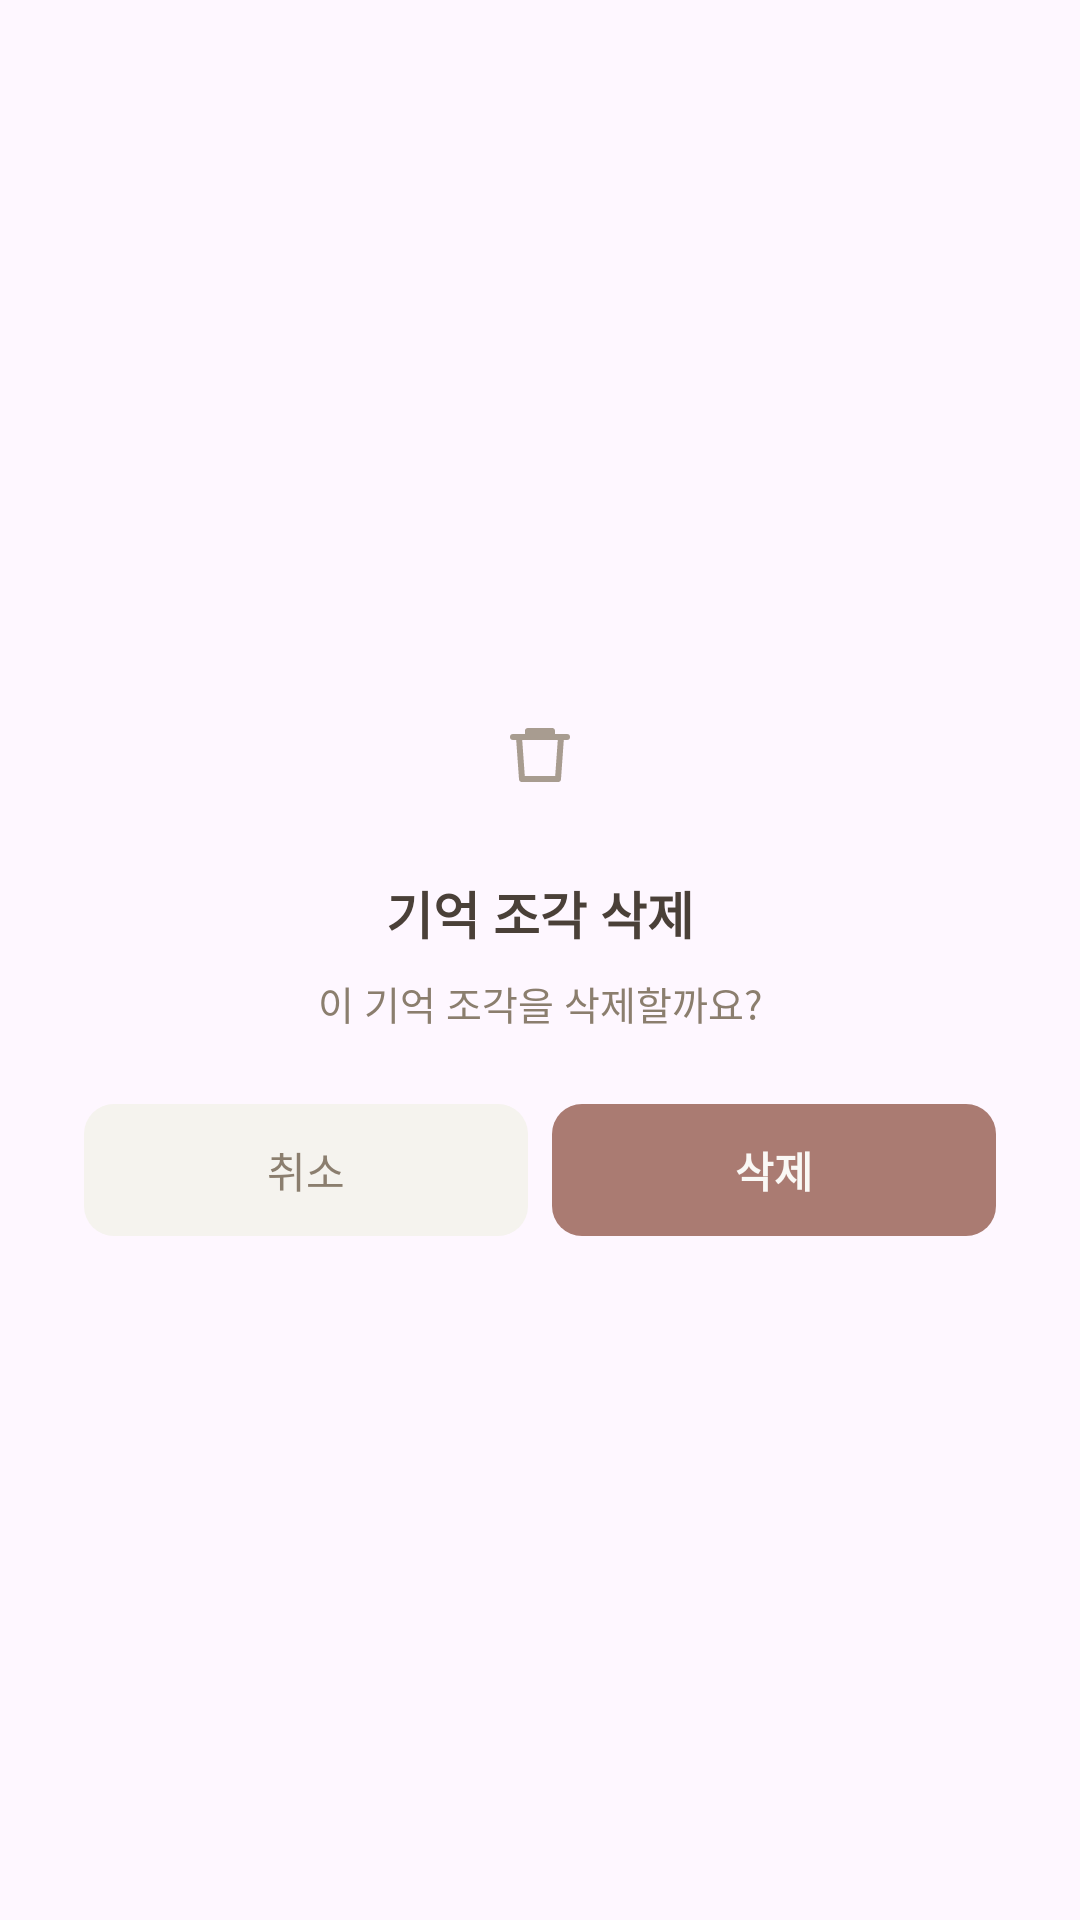

Named icons in this screenshot (1080 x 1920) and their centers, (x,y):
delete: (540,755)
